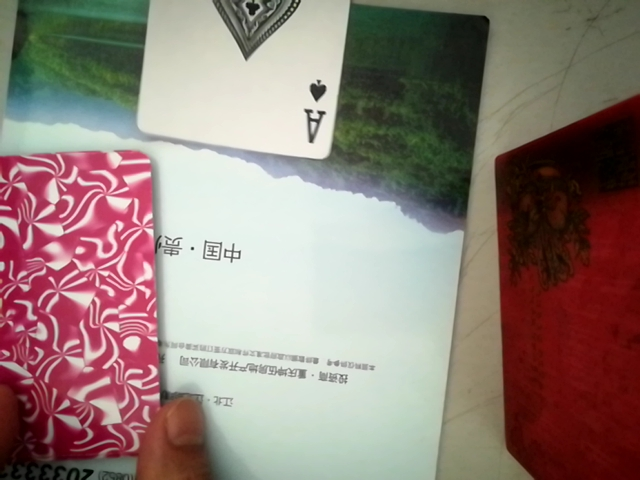ht a: (133, 0, 359, 163)
